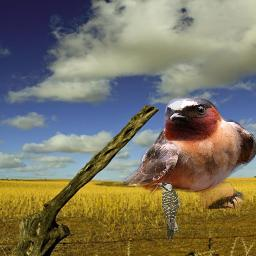Swallow: (122, 98, 256, 209)
Woodpecker: (154, 181, 185, 243)
